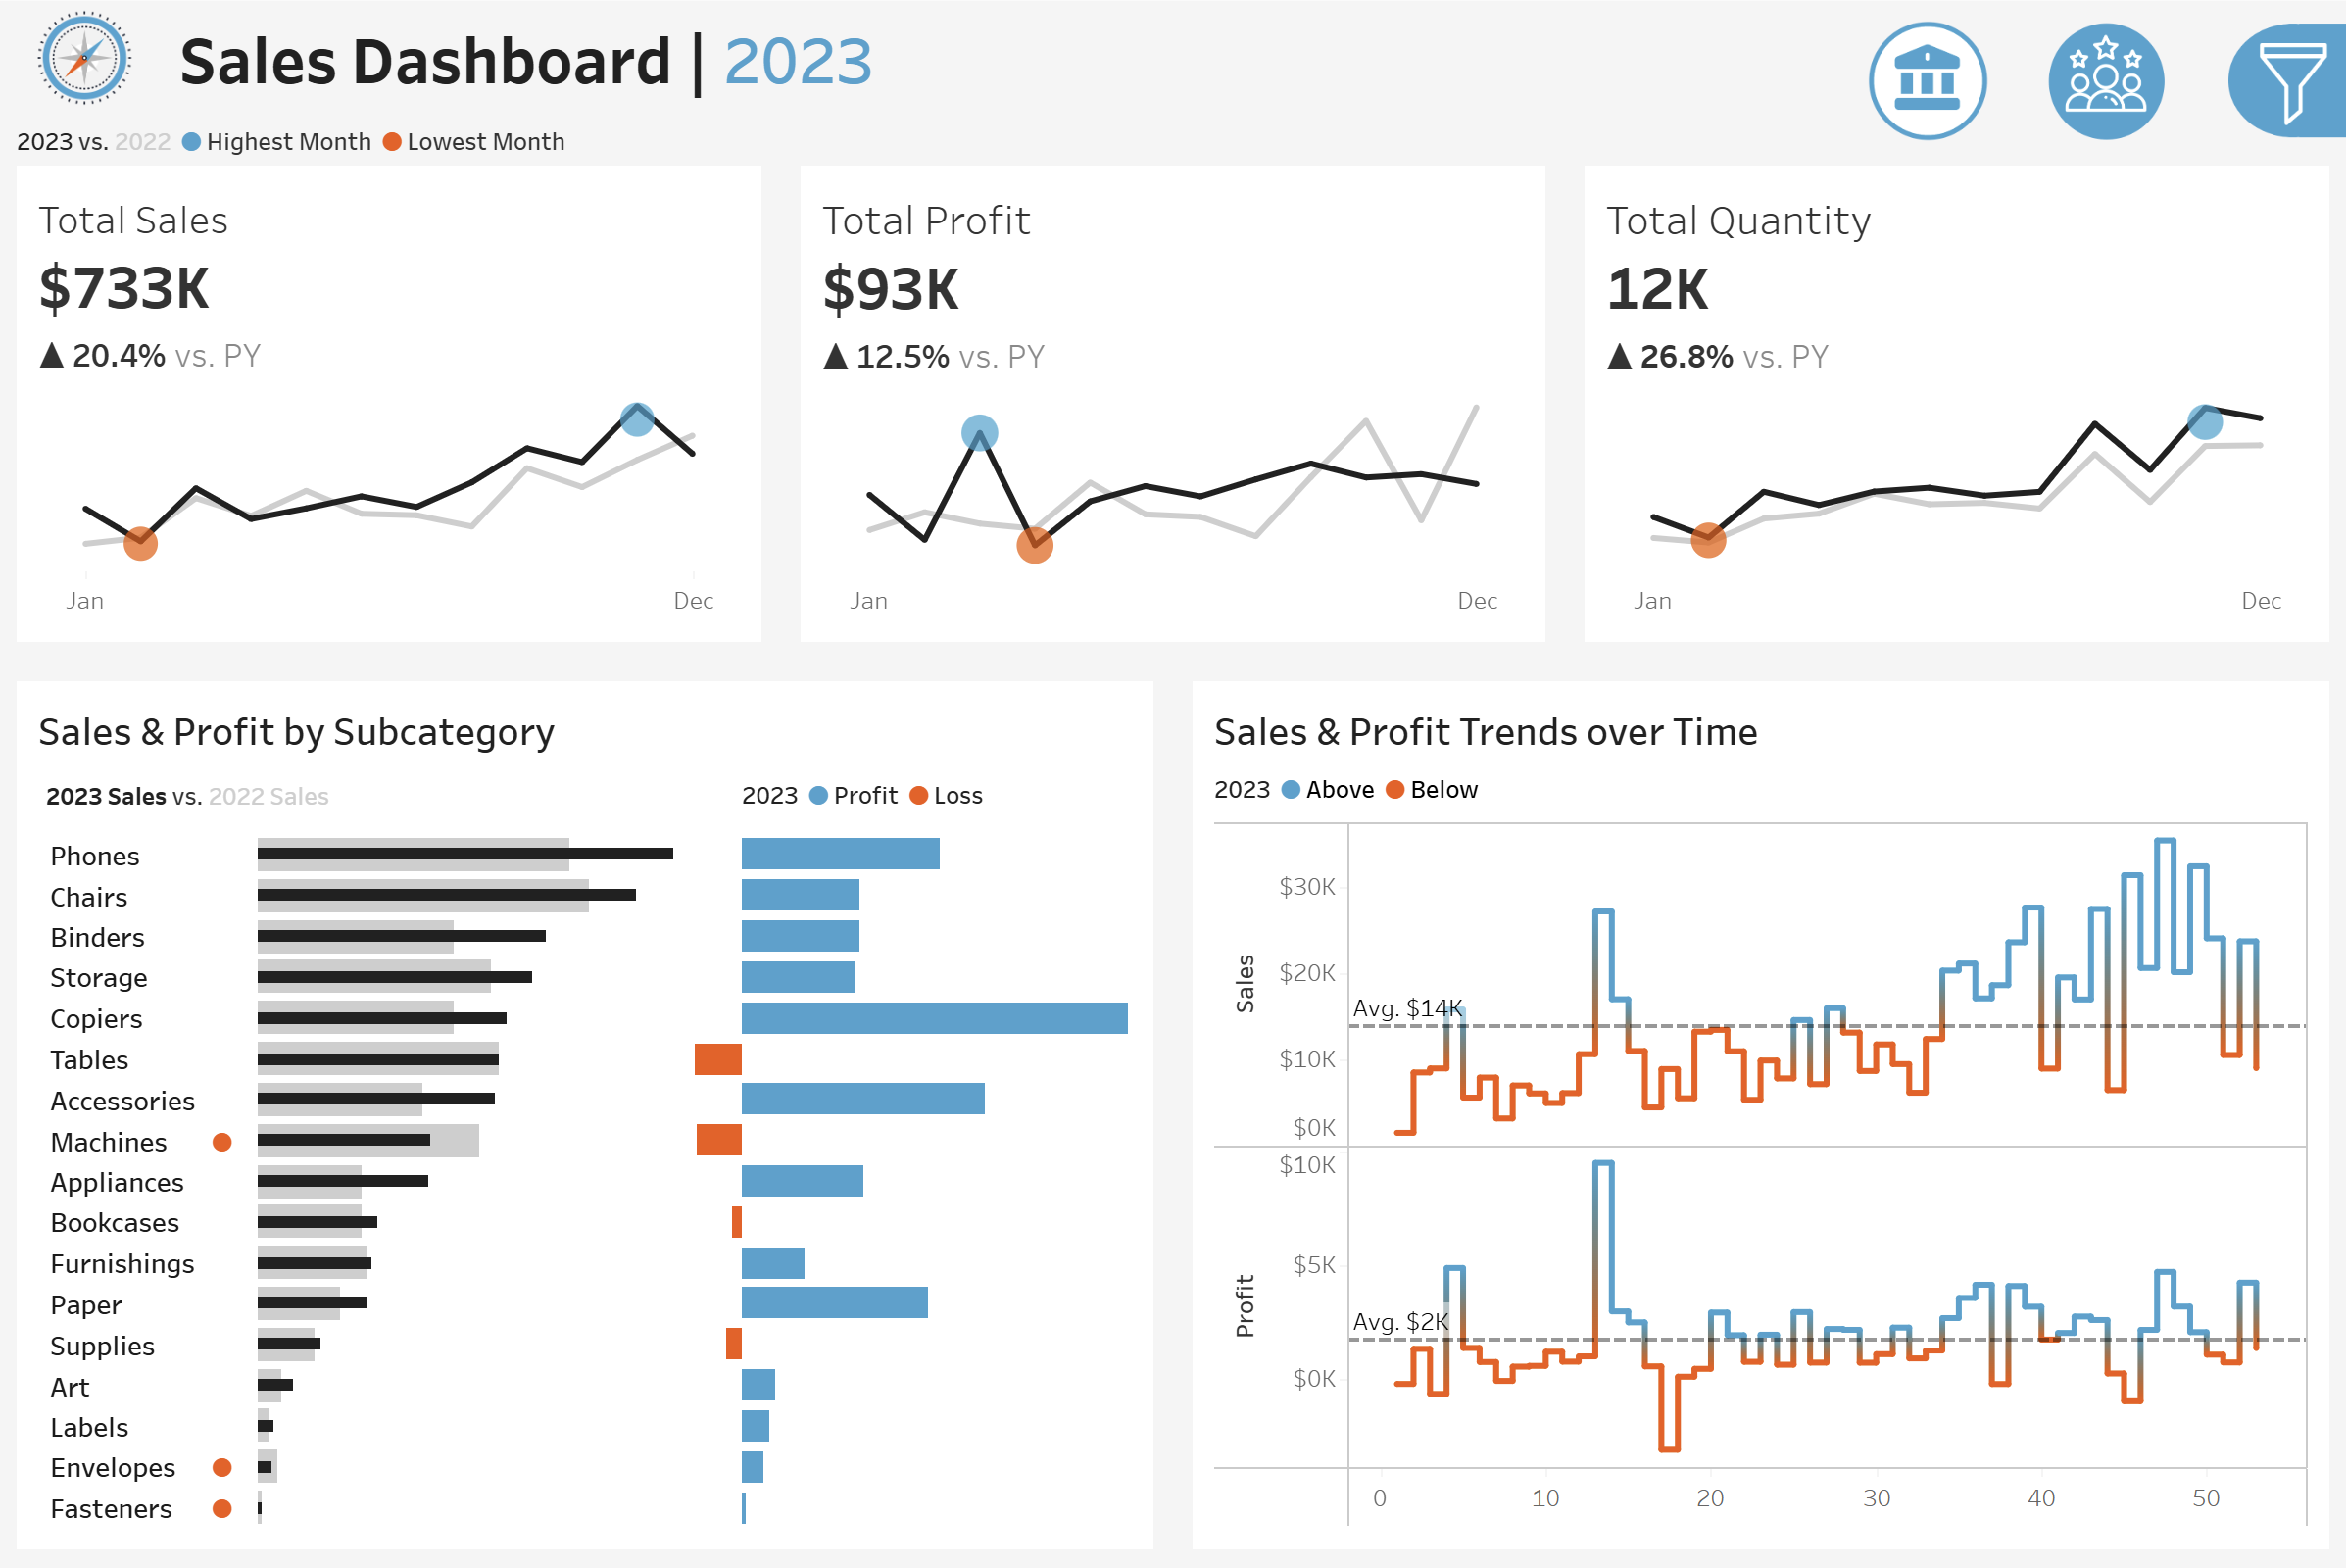

The dashboard page shown, as its layout file describes it:
{"tool":"tableau","page":{"name":"Sales Dashboard","canvas":[1200,800],"ordinal":1},"visuals":[{"type":"image","param":"C:/Users/Güliz/OneDrive/Desktop/Tableau/Tableau_Sales&Customers Dashborad/Sales ","box":[0,0,89,58]},{"type":"text","box":[89,0,875,58]},{"type":"dashboard-object","box":[940,6,91,70]},{"type":"dashboard-object","box":[1031,6,91,70]},{"type":"blank","box":[952,10,237,101]},{"type":"worksheet","title":"Legend KPI","mark":"Automatic","box":[0,58,1200,26]},{"type":"worksheet","title":"KPI Sales","mark":"Automatic","rows":["Calculation_2970123983233024005"],"cols":["Order Date"],"box":[0,84,400,253]},{"type":"worksheet","title":"KPI Profit","mark":"Automatic","rows":["Min/Max Sales (copy)_4154852160243425285"],"cols":["Order Date"],"box":[400,84,400,253]},{"type":"worksheet","title":"KPI Quantity","mark":"Automatic","rows":["Min/Max Sales (copy)_4154852160502751250"],"cols":["Order Date"],"box":[800,84,400,253]},{"type":"text","box":[952,111,237,35]},{"type":"parameter","param":"[Parameters].[Parameter 1]","box":[952,146,237,52]},{"type":"blank","box":[952,198,237,43]},{"type":"text","box":[952,241,237,29]},{"type":"filter","title":"KPI Sales","param":"[federated.0g0n80515ob3im1bokr0s1k54oxh].[none:Category:nk]","box":[952,270,237,52]},{"type":"filter","title":"KPI Sales","param":"[federated.0g0n80515ob3im1bokr0s1k54oxh].[none:Sub-Category:nk]","box":[952,322,237,52]},{"type":"text","box":[17,354,566,34]},{"type":"text","box":[617,354,566,34]},{"type":"blank","box":[952,374,237,44]},{"type":"worksheet","title":"Legend Subcategory","mark":"Automatic","box":[17,388,359,32]},{"type":"text","box":[376,388,207,32]},{"type":"text","box":[617,388,566,25]},{"type":"worksheet","title":"Weekly Trends","mark":"Automatic","rows":["Calculation_2970123983219318785","CY Sales (copy)_4154852160242114562"],"cols":["Order Date"],"box":[617,413,566,370]},{"type":"text","box":[952,418,237,29]},{"type":"worksheet","title":"Subcategory Comparison","mark":"Bar","rows":["Sub-Category","Calculation_4154852160563744790"],"cols":["CY Sales (copy)_2970123983221825538","Calculation_2970123983219318785","CY Sales (copy)_4154852160242114562"],"box":[17,420,566,363]},{"type":"filter","title":"KPI Sales","param":"[federated.0g0n80515ob3im1bokr0s1k54oxh].[none:Region:nk]","box":[952,447,237,52]},{"type":"filter","title":"KPI Sales","param":"[federated.0g0n80515ob3im1bokr0s1k54oxh].[none:State:nk]","box":[952,499,237,52]},{"type":"filter","title":"KPI Sales","param":"[federated.0g0n80515ob3im1bokr0s1k54oxh].[none:City:nk]","box":[952,551,237,52]}]}

Visuals, with their boxes in screenshot pixels (x1, y1, x2, y2), scaled from the page's 1200x800 canvas onto the 2346x1568 screenshot:
image: rect(0, 0, 174, 114)
text: rect(174, 0, 1884, 114)
dashboard-object: rect(1837, 12, 2016, 149)
dashboard-object: rect(2016, 12, 2193, 149)
blank: rect(1861, 20, 2324, 218)
"Legend KPI" worksheet: rect(0, 114, 2345, 165)
"KPI Sales" worksheet: rect(0, 165, 782, 661)
"KPI Profit" worksheet: rect(782, 165, 1564, 661)
"KPI Quantity" worksheet: rect(1564, 165, 2345, 661)
text: rect(1861, 218, 2324, 286)
parameter: rect(1861, 286, 2324, 388)
blank: rect(1861, 388, 2324, 472)
text: rect(1861, 472, 2324, 529)
"KPI Sales" filter: rect(1861, 529, 2324, 631)
"KPI Sales" filter: rect(1861, 631, 2324, 733)
text: rect(33, 694, 1140, 760)
text: rect(1206, 694, 2313, 760)
blank: rect(1861, 733, 2324, 819)
"Legend Subcategory" worksheet: rect(33, 760, 735, 823)
text: rect(735, 760, 1140, 823)
text: rect(1206, 760, 2313, 809)
"Weekly Trends" worksheet: rect(1206, 809, 2313, 1535)
text: rect(1861, 819, 2324, 876)
"Subcategory Comparison" worksheet (Bar marks): rect(33, 823, 1140, 1535)
"KPI Sales" filter: rect(1861, 876, 2324, 978)
"KPI Sales" filter: rect(1861, 978, 2324, 1080)
"KPI Sales" filter: rect(1861, 1080, 2324, 1182)
